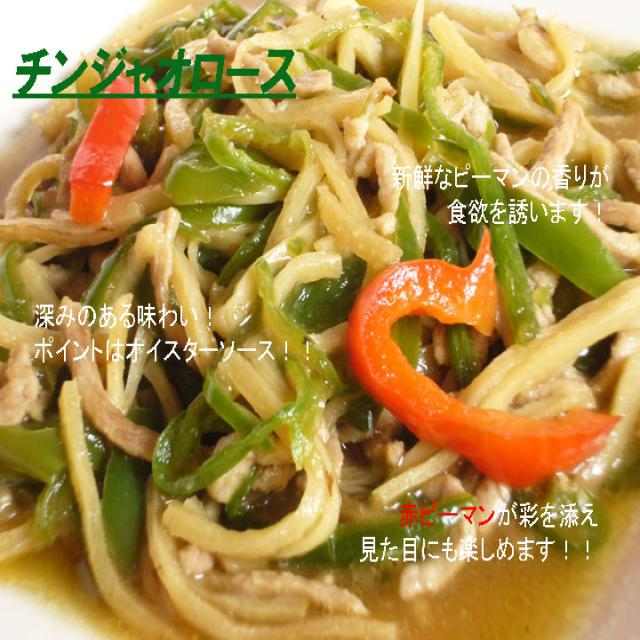牛肉菜式: (0, 109, 640, 640)
